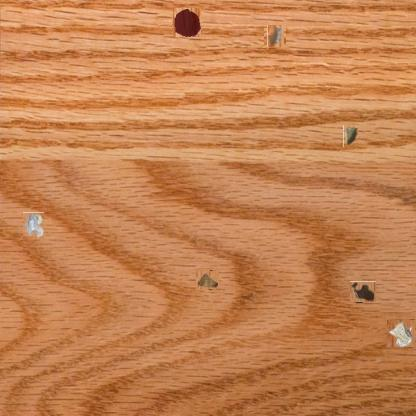dirty: (387, 319, 415, 347), (22, 212, 44, 239), (197, 270, 218, 290), (266, 27, 285, 46), (343, 125, 358, 147)
liquid: (172, 8, 202, 37), (352, 280, 375, 304)
